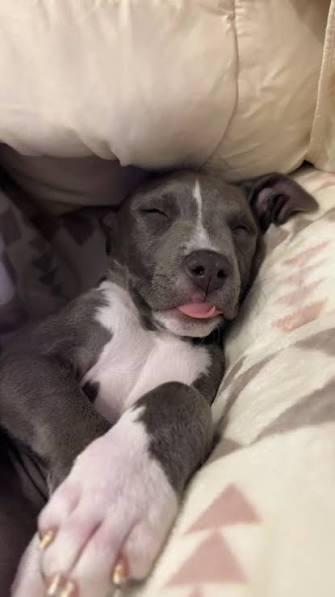adult_dog: (1, 162, 319, 597)
